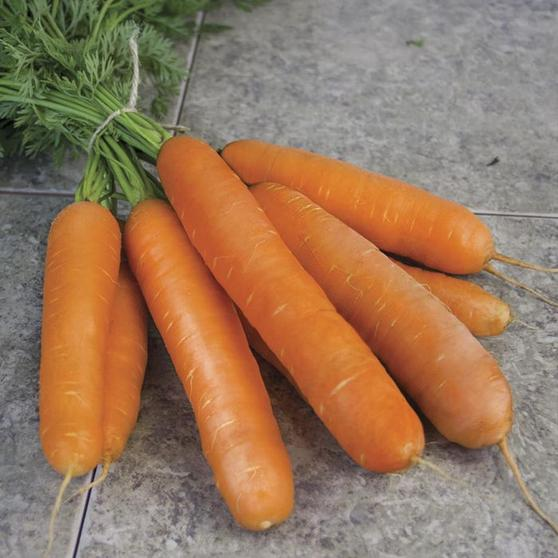carrot: (148, 139, 423, 472), (121, 190, 299, 551), (41, 181, 118, 485)
